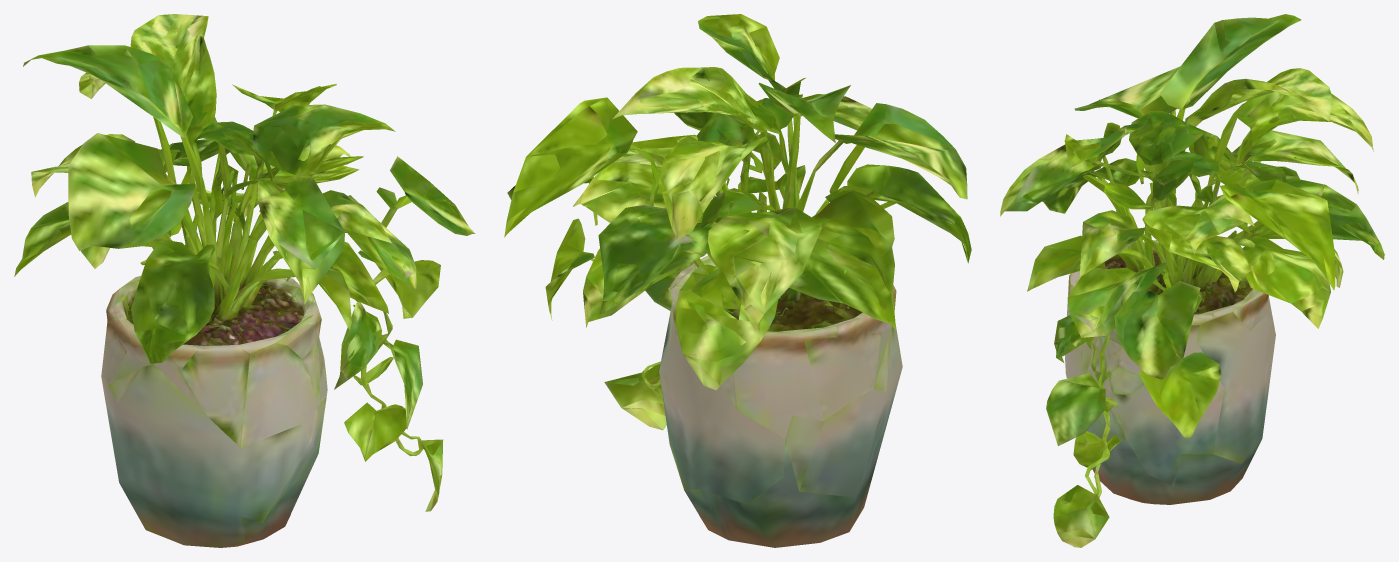
File: plant.glb
3 views of the same model, side by side, from view 1: azimuth 30°, elevation 25°; view 2: azimuth 150°, elevation 25°; view 3: azimuth 270°, elevation 25° (orthographic). The views are drawn at different scales.
Parts seen in each view (by area): view 1: Mesh_0; view 2: Mesh_0; view 3: Mesh_0.
Boxes of the visible parts, x1,y1,x2,y2 form: Mesh_0: (14,14,475,547); Mesh_0: (504,14,971,547); Mesh_0: (1000,14,1384,547).
Size of the model in its own units: 1.82 by 1.9 by 1.59.
Materials: 1 (1 with a texture image).
